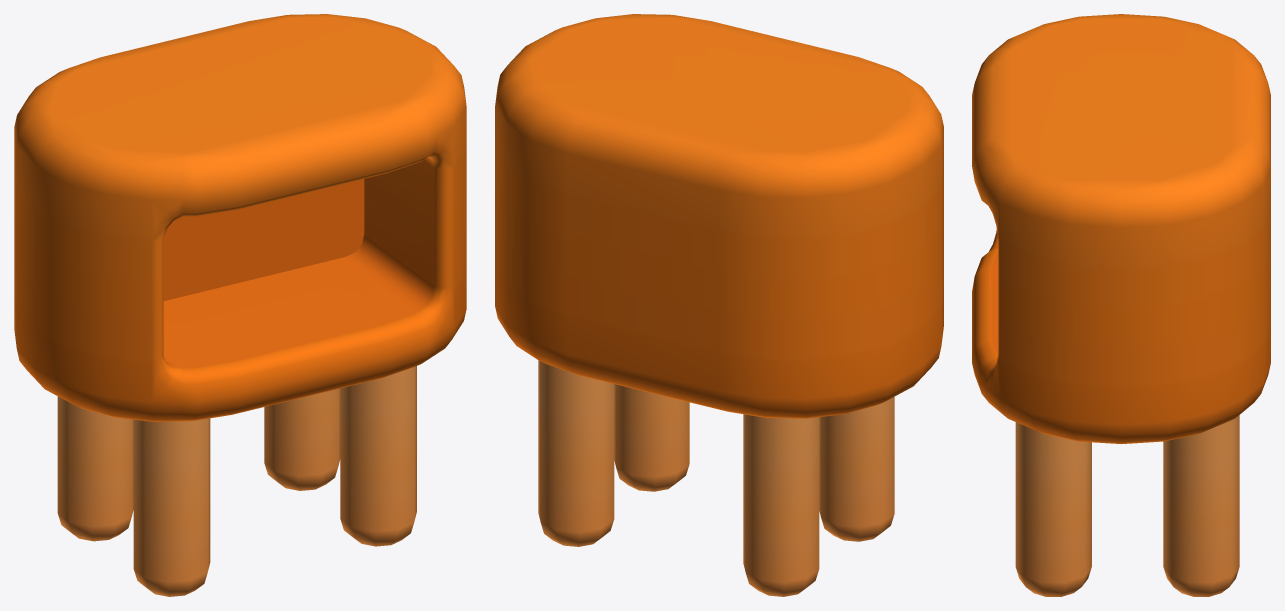
The model's file is Nightstand_07.glb.
3 renders of one model, left to right at view 1: azimuth 30°, elevation 25°; view 2: azimuth 150°, elevation 25°; view 3: azimuth 270°, elevation 25°, orthographic. The views are drawn at different scales.
Parts seen in each view (by area): view 1: Nightstand_07; view 2: Nightstand_07; view 3: Nightstand_07.
Part boxes in pixels (<box>): Nightstand_07: <box>14,14,466,596</box>; Nightstand_07: <box>495,14,943,596</box>; Nightstand_07: <box>972,14,1270,596</box>.
Size of the model in its own units: 0.54 by 0.572 by 0.351.
Materials: 1 (1 with a texture image).
